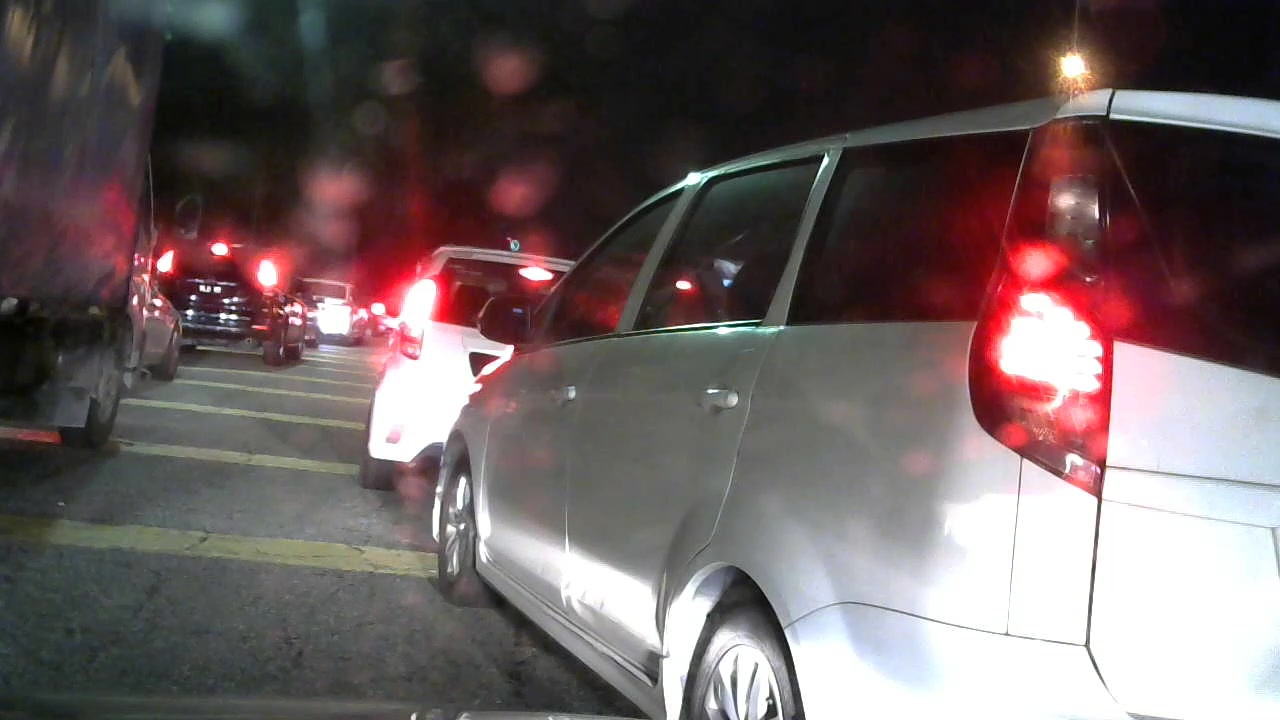Car: (487, 59, 1277, 718), (336, 230, 588, 490), (154, 219, 321, 362), (107, 263, 196, 384), (305, 260, 370, 355)
